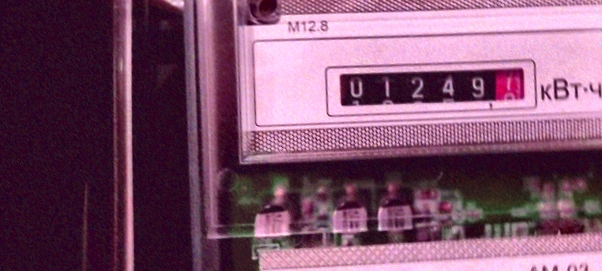0: (344, 71, 365, 99)
1: (376, 73, 393, 99)
2: (406, 73, 428, 101)
4: (438, 70, 458, 99)
7: (499, 67, 516, 92)
9: (467, 73, 487, 99)
screen: (314, 44, 552, 138)
